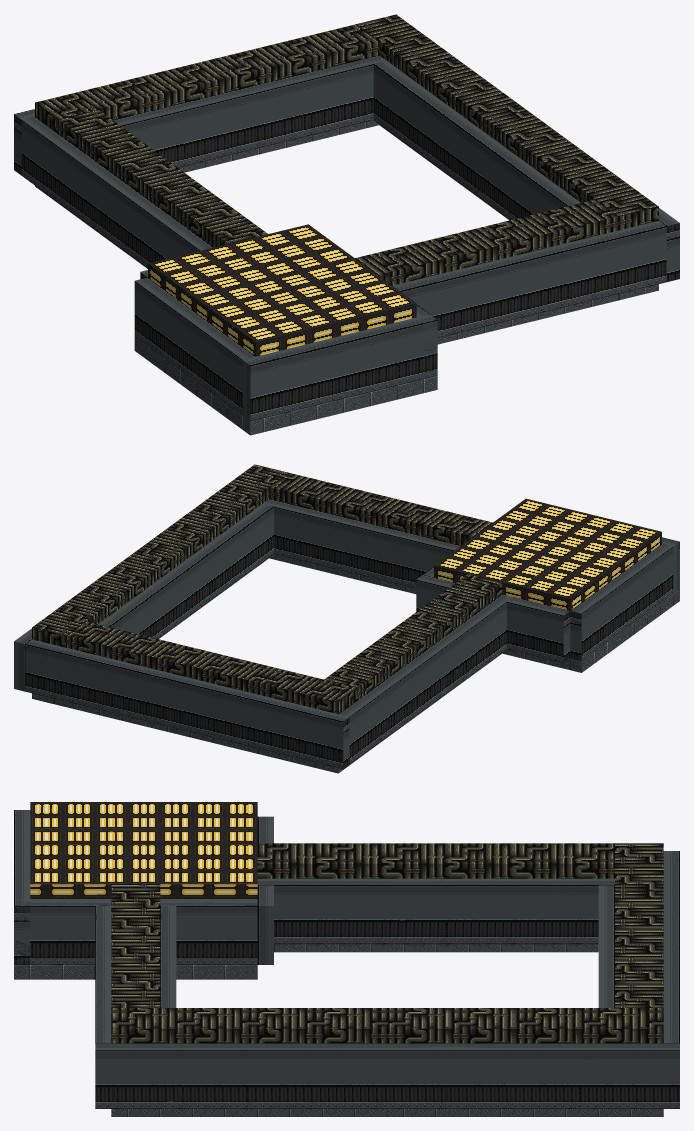
Rendered from map.glb.
3 views of the same model, one above another, from view 1: azimuth 30°, elevation 25°; view 2: azimuth 150°, elevation 25°; view 3: azimuth 270°, elevation 25° (orthographic). The views are drawn at different scales.
Parts seen in each view (by area): view 1: entity0_brush20, entity0_brush7, entity0_brush17, entity0_brush1, entity0_brush19, entity0_brush14, entity0_brush23, entity0_brush28, entity0_brush24, entity0_brush2, entity0_brush27, entity0_brush26 (+5 smaller); view 2: entity0_brush16, entity0_brush20, entity0_brush14, entity0_brush6, entity0_brush19, entity0_brush23, entity0_brush28, entity0_brush24, entity0_brush2, entity0_brush26, entity0_brush27, entity0_brush21 (+7 smaller); view 3: entity0_brush18, entity0_brush15, entity0_brush20, entity0_brush23, entity0_brush27, entity0_brush26, entity0_brush28, entity0_brush24, entity0_brush3, entity0_brush4, entity0_brush16, entity0_brush12 (+9 smaller).
Boxes of the visible parts, left/top/right/bottom form: entity0_brush20: left=148, top=224, right=416, bottom=356; entity0_brush7: left=392, top=220, right=666, bottom=337; entity0_brush17: left=113, top=55, right=386, bottom=167; entity0_brush1: left=242, top=314, right=437, bottom=421; entity0_brush19: left=373, top=61, right=580, bottom=220; entity0_brush14: left=21, top=116, right=213, bottom=267; entity0_brush23: left=58, top=109, right=267, bottom=247; entity0_brush28: left=355, top=199, right=618, bottom=285; entity0_brush24: left=129, top=24, right=379, bottom=110; entity0_brush2: left=134, top=277, right=255, bottom=415; entity0_brush27: left=487, top=110, right=658, bottom=230; entity0_brush26: left=356, top=14, right=527, bottom=133; entity0_brush16: left=25, top=639, right=349, bottom=768; entity0_brush20: left=434, top=498, right=661, bottom=610; entity0_brush14: left=338, top=594, right=512, bottom=763; entity0_brush6: left=263, top=499, right=460, bottom=588; entity0_brush19: left=98, top=504, right=273, bottom=638; entity0_brush23: left=324, top=574, right=502, bottom=699; entity0_brush28: left=269, top=473, right=492, bottom=545; entity0_brush24: left=66, top=621, right=278, bottom=694; entity0_brush2: left=570, top=543, right=673, bottom=660; entity0_brush26: left=32, top=546, right=177, bottom=647; entity0_brush27: left=144, top=464, right=288, bottom=565; entity0_brush21: left=507, top=597, right=570, bottom=662; entity0_brush18: left=95, top=1043, right=679, bottom=1108; entity0_brush15: left=257, top=878, right=614, bottom=944; entity0_brush20: left=30, top=802, right=257, bottom=898; entity0_brush23: left=257, top=843, right=614, bottom=878; entity0_brush27: left=111, top=1008, right=387, bottom=1043; entity0_brush26: left=387, top=1008, right=663, bottom=1043; entity0_brush28: left=111, top=884, right=160, bottom=1007; entity0_brush24: left=615, top=891, right=663, bottom=1007; entity0_brush3: left=160, top=899, right=257, bottom=964; entity0_brush4: left=14, top=899, right=111, bottom=964; entity0_brush16: left=663, top=851, right=679, bottom=1043; entity0_brush12: left=274, top=944, right=598, bottom=952.
Size of the model in its own units: 560 by 96 by 656.
4 materials, 4 textured.
